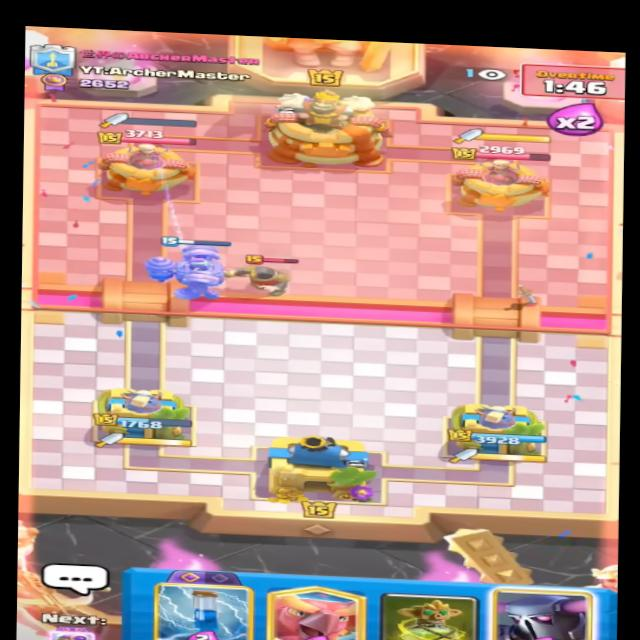knight: (238, 249, 311, 296)
